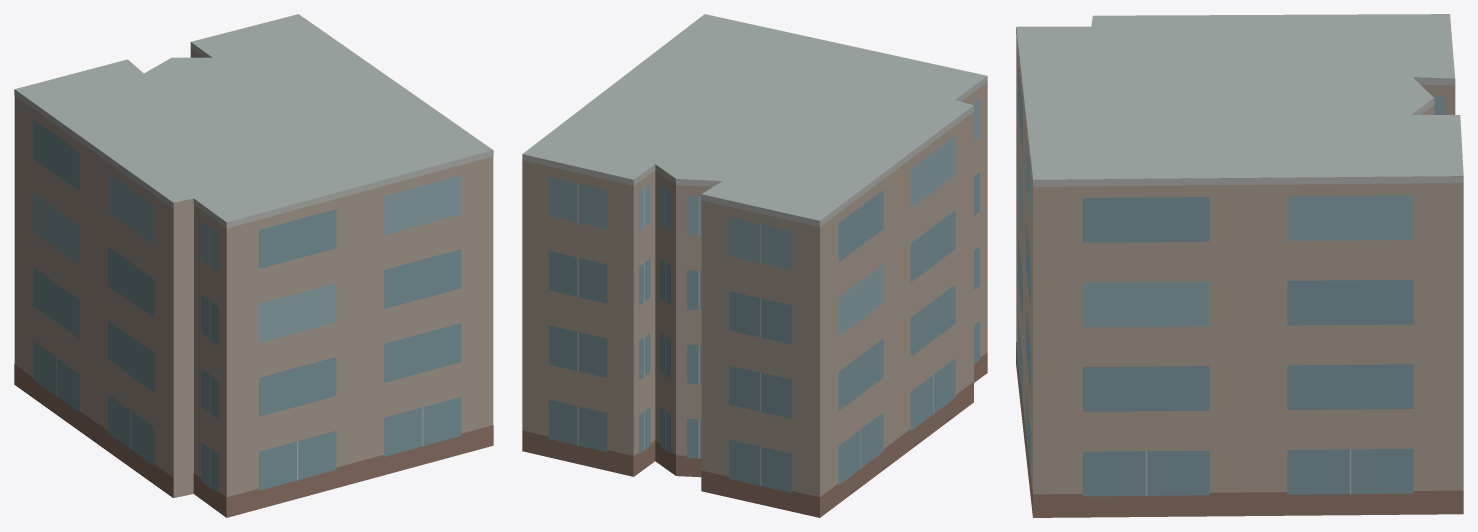
File: survey-upis-32747344.glb
3 renders of one model, left to right at view 1: azimuth 30°, elevation 25°; view 2: azimuth 150°, elevation 25°; view 3: azimuth 270°, elevation 25°, orthographic. The views are drawn at different scales.
Parts seen in each view (by area): view 1: survey-upis-32747344.tmp; view 2: survey-upis-32747344.tmp; view 3: survey-upis-32747344.tmp.
Part boxes in pixels (x1,y1,x2,y2): survey-upis-32747344.tmp: [14, 14, 493, 517]; survey-upis-32747344.tmp: [522, 14, 987, 517]; survey-upis-32747344.tmp: [1016, 14, 1463, 517].
Bounding box in the file's own units: 12.31 × 11.7 × 14.04.
